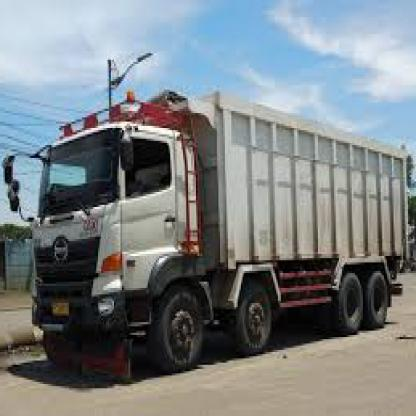truck: (31, 120, 206, 373)
